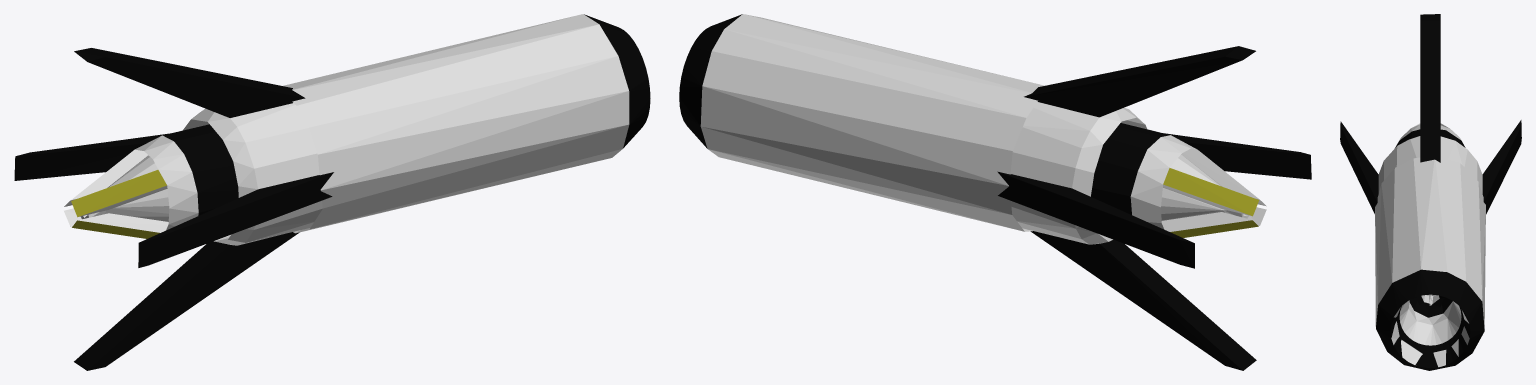
File: cohete_Ligero.fbx
3 renders of one model, left to right at view 1: azimuth 30°, elevation 25°; view 2: azimuth 150°, elevation 25°; view 3: azimuth 270°, elevation 25°, orthographic. The views are drawn at different scales.
Visible parts, largest first — view 1: Cylinder; view 2: Cylinder; view 3: Cylinder.
Boxes of the visible parts, x1,y1,x2,y2 form: Cylinder: (14, 14, 650, 370); Cylinder: (679, 14, 1311, 370); Cylinder: (1340, 14, 1521, 370).
Size of the model in its own units: 634 by 340 by 239.
